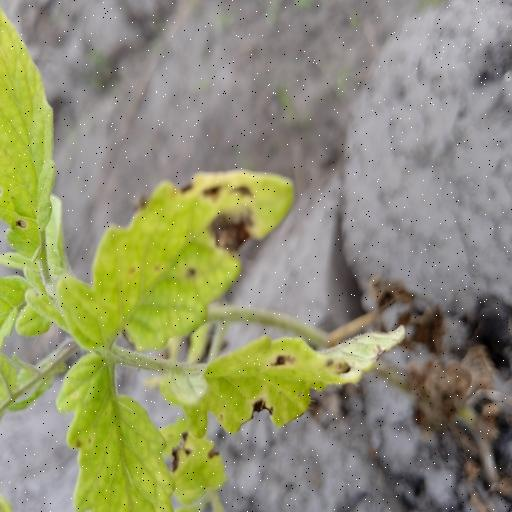Tomato_Brown_Spots: (46, 161, 298, 358), (142, 323, 410, 427)
